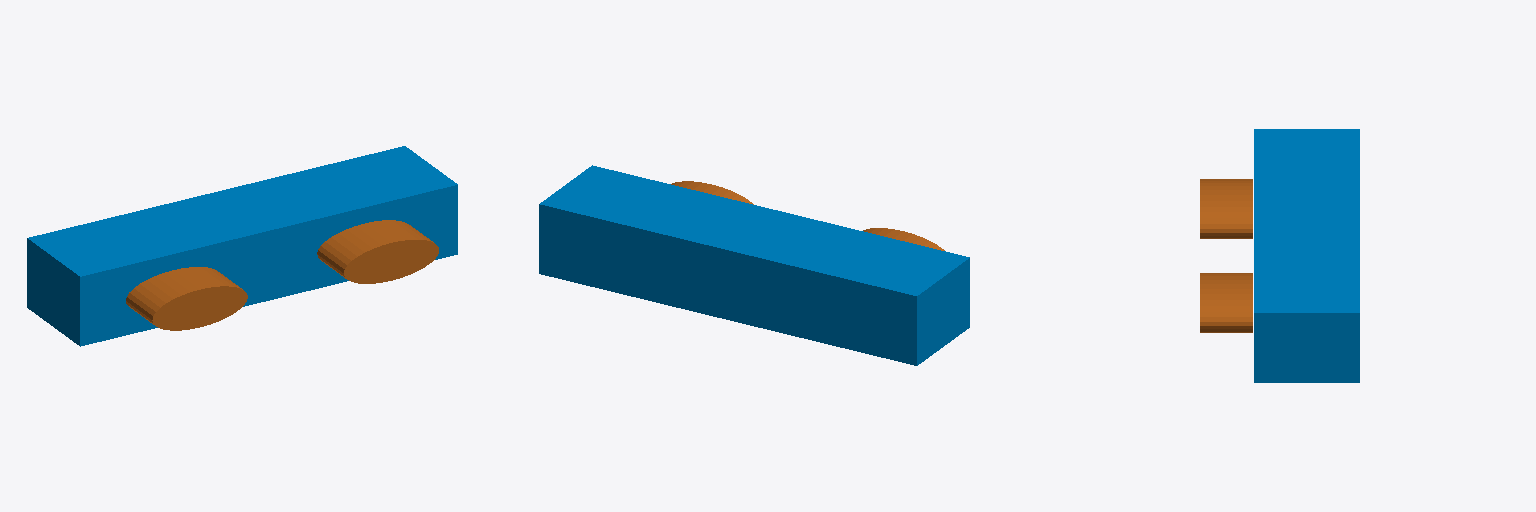
The model's file is paddle.obj.
3 views of the same model, side by side, from view 1: azimuth 30°, elevation 25°; view 2: azimuth 150°, elevation 25°; view 3: azimuth 270°, elevation 25° (orthographic).
Visible parts, largest first — view 1: object0; view 2: object0; view 3: object0.
Boxes of the visible parts, box(x1,y1,x2,y2) form: object0: box(27, 146, 457, 346); object0: box(539, 165, 969, 365); object0: box(1200, 129, 1359, 382).
Size of the model in its own units: 3.95 by 0.6972 by 1.44.